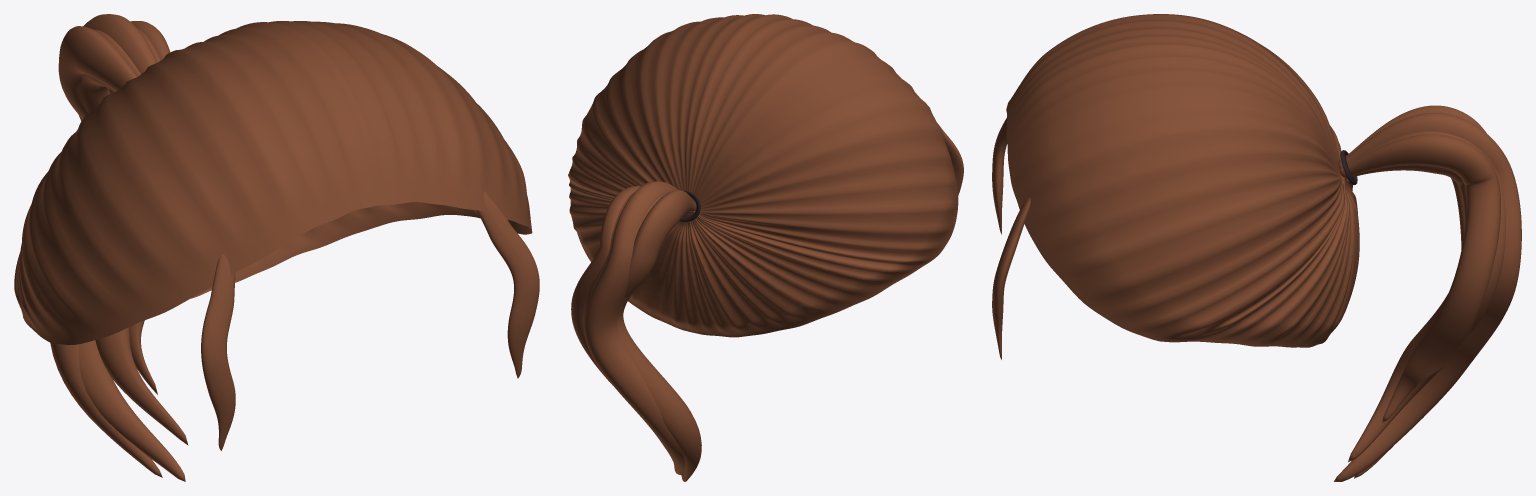
The model's file is Feminine-ponytail-cap-hair.glb.
3 views of the same model, side by side, from view 1: azimuth 30°, elevation 25°; view 2: azimuth 150°, elevation 25°; view 3: azimuth 270°, elevation 25° (orthographic). The views are drawn at different scales.
Parts seen in each view (by area): view 1: Hair / swept roots220, Hair / rounded tail220 2, Hair / adjustable front216 -1, Hair / adjustable front216 1, Hair / rounded tail220 0, Hair / rounded tail220 1, Hair / rounded tail220 3, Hair / rounded tail220 4; view 2: Hair / swept roots220, Hair / rounded tail220 2, Hair / rounded tail220 1, Hair / rounded tail220 0, Hair / rounded tail220 4, Hair / adjustable front216 -1; view 3: Hair / swept roots220, Hair / rounded tail220 4, Hair / rounded tail220 2, Hair / rounded tail220 3, Hair / adjustable front216 1, Hair / adjustable front216 -1, Hair / rounded tail220 0.
Part boxes in pixels (x1,y1,x2,y2): Hair / swept roots220: [14, 21, 532, 344]; Hair / rounded tail220 2: [78, 14, 185, 481]; Hair / adjustable front216 -1: [201, 254, 235, 450]; Hair / adjustable front216 1: [476, 191, 539, 378]; Hair / rounded tail220 0: [58, 26, 137, 118]; Hair / rounded tail220 1: [50, 29, 162, 477]; Hair / rounded tail220 3: [95, 28, 188, 445]; Hair / rounded tail220 4: [129, 21, 170, 394]; Hair / swept roots220: [568, 14, 958, 337]; Hair / rounded tail220 2: [583, 181, 685, 474]; Hair / rounded tail220 1: [617, 191, 701, 481]; Hair / rounded tail220 0: [624, 190, 696, 475]; Hair / rounded tail220 4: [571, 185, 640, 385]; Hair / adjustable front216 -1: [937, 123, 963, 195]; Hair / swept roots220: [1006, 14, 1359, 347]; Hair / rounded tail220 4: [1339, 134, 1500, 423]; Hair / rounded tail220 2: [1334, 113, 1521, 481]; Hair / rounded tail220 3: [1340, 131, 1505, 462]; Hair / adjustable front216 1: [992, 197, 1030, 359]; Hair / adjustable front216 -1: [992, 118, 1007, 234]; Hair / rounded tail220 0: [1339, 105, 1486, 451].
Bounding box in the file's own units: 0.9754 × 1.03 × 1.11.
